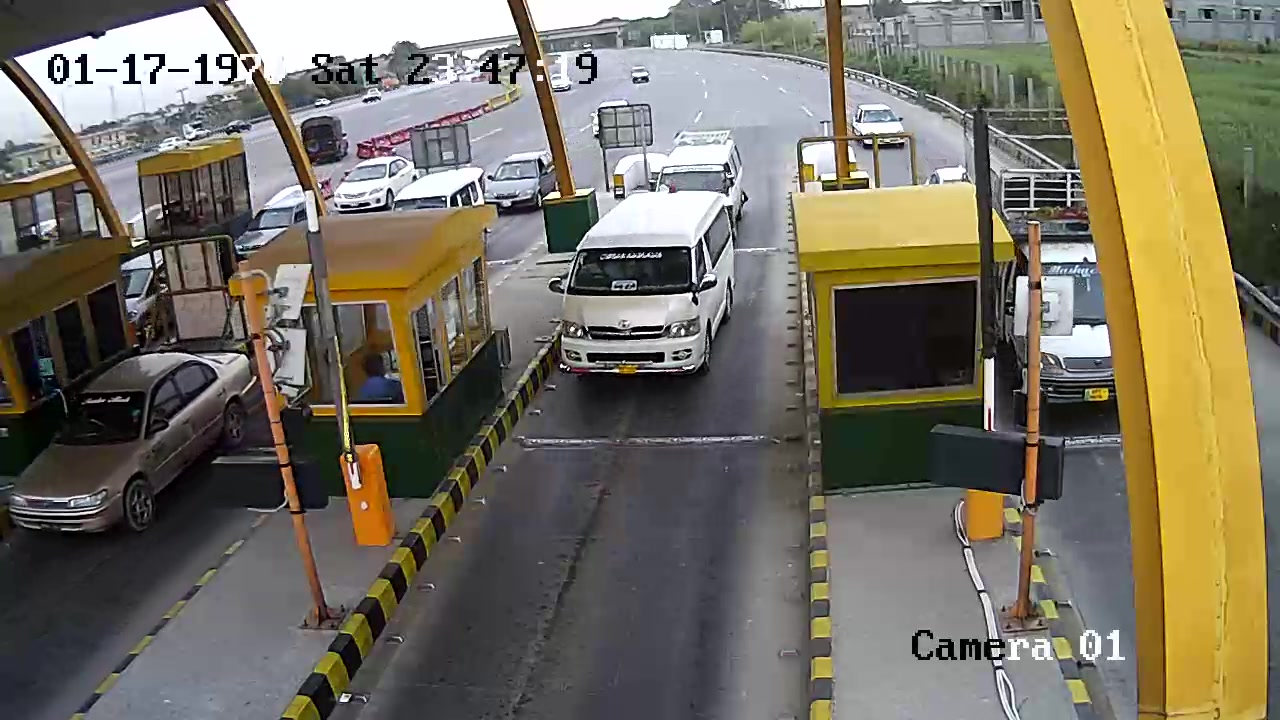F3: (549, 189, 733, 382)
